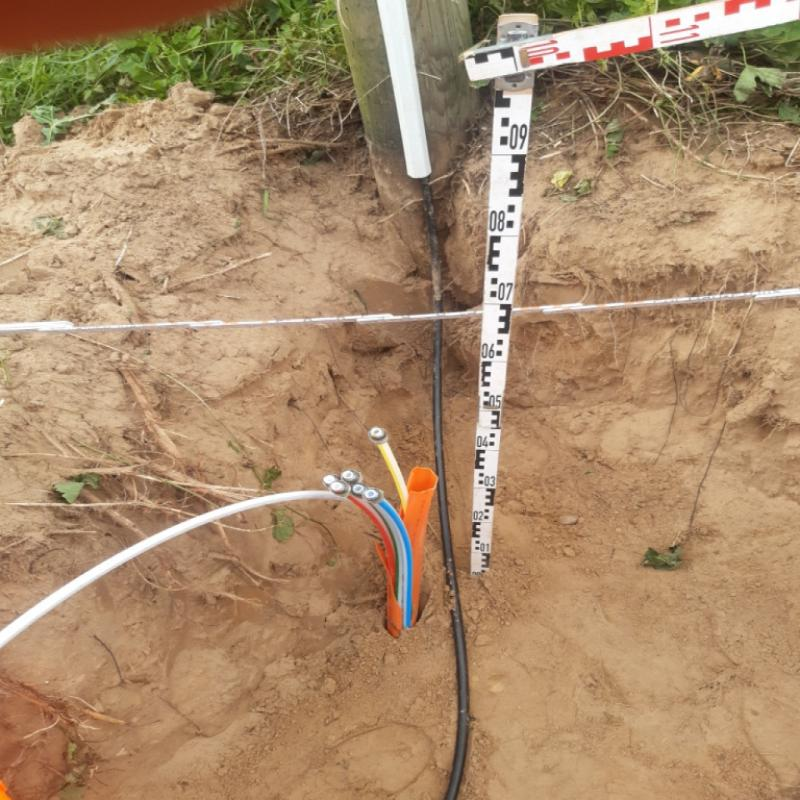Orang-Speednetrohrchen: (322, 425, 440, 637)
